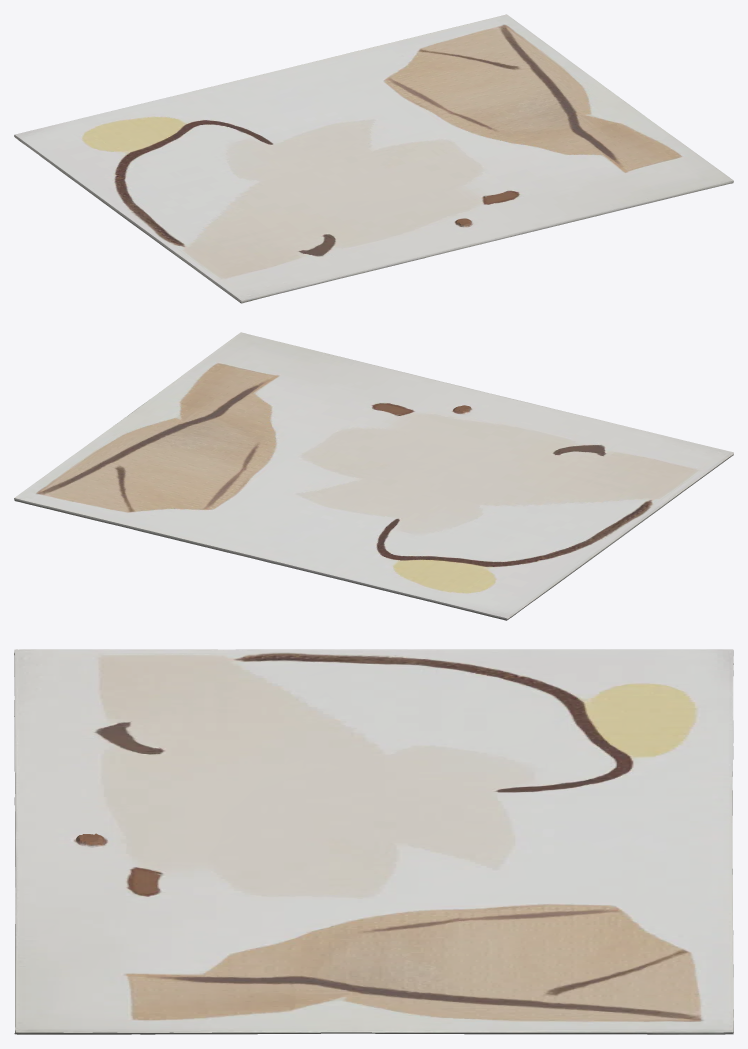
The model's file is 5bffb548-442f-4ce9-8296-0a97c9b48fa8.glb.
3 renders of one model, top to bottom at view 1: azimuth 30°, elevation 25°; view 2: azimuth 150°, elevation 25°; view 3: azimuth 270°, elevation 25°, orthographic. The views are drawn at different scales.
Visible parts, largest first — view 1: world; view 2: world; view 3: world.
Boxes of the visible parts, x1,y1,x2,y2 form: world: (14,14,733,303); world: (14,332,733,620); world: (14,649,733,1034).
Bounding box in the file's own units: 1 × 0.0092 × 0.7982.
Materials: 1 (1 with a texture image).
